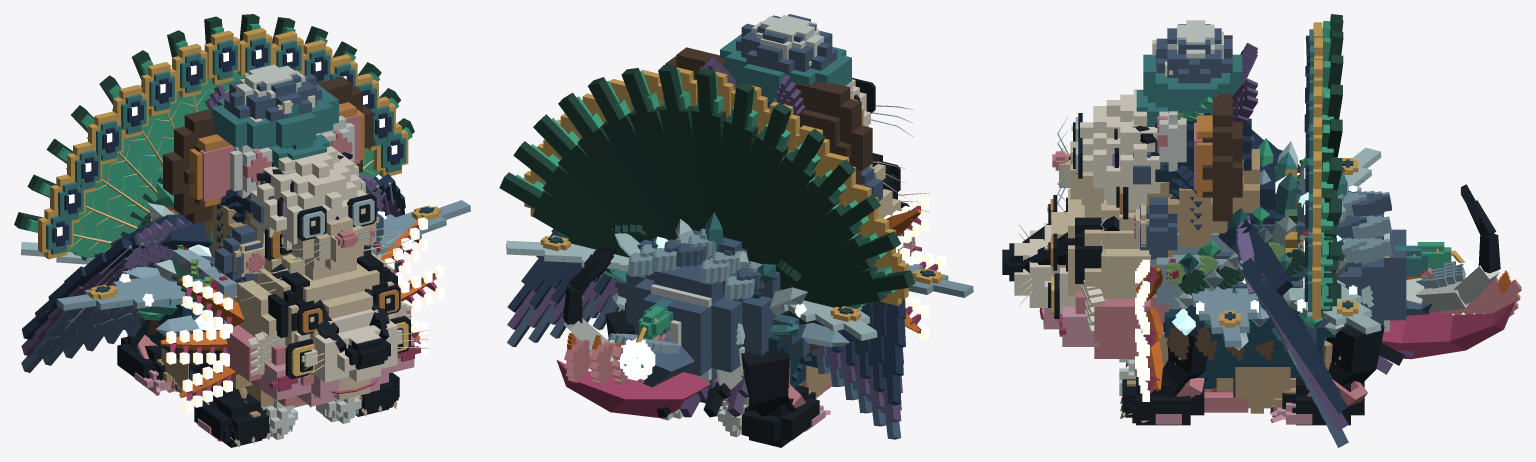
The model's file is autumn-pets.glb.
3 renders of one model, left to right at view 1: azimuth 30°, elevation 25°; view 2: azimuth 150°, elevation 25°; view 3: azimuth 270°, elevation 25°, orthographic. The views are drawn at different scales.
Visible parts, largest first — view 1: suncrest-peacock-tail-mesh, snowcap-stoat-head-mesh, bramble-badger-head-mesh, ember-axolotl-head-mesh, duskwind-raven-wing-left-mesh, clover-mouse-head-mesh, geode-hedgehog-body-mesh, dewbell-dragonfly-wing-left-mesh, bramble-badger-leg-front-left-mesh, duskwind-raven-head-mesh, dewbell-dragonfly-wing-right-mesh, bramble-badger-body-mesh (+8 smaller); view 2: suncrest-peacock-tail-mesh, bramble-badger-body-mesh, snowcap-stoat-head-mesh, duskwind-raven-wing-left-mesh, ember-axolotl-tail-mesh, duskwind-raven-wing-right-mesh, bramble-badger-leg-rear-left-mesh, clover-mouse-head-mesh, geode-hedgehog-body-mesh, dewbell-dragonfly-wing-left-mesh, ember-axolotl-head-mesh, dewbell-dragonfly-tail-mesh (+10 smaller); view 3: snowcap-stoat-head-mesh, bramble-badger-head-mesh, geode-hedgehog-body-mesh, bramble-badger-body-mesh, suncrest-peacock-tail-mesh, clover-mouse-head-mesh, ember-axolotl-head-mesh, duskwind-raven-wing-right-mesh, ember-axolotl-tail-mesh, dewbell-dragonfly-wing-right-mesh, duskwind-raven-head-mesh, bramble-badger-leg-front-right-mesh (+13 smaller).
Part boxes in pixels (x1=…): suncrest-peacock-tail-mesh: x1=14, y1=14, x2=414, y2=260; snowcap-stoat-head-mesh: x1=211, y1=64, x2=413, y2=272; bramble-badger-head-mesh: x1=215, y1=213, x2=428, y2=382; ember-axolotl-head-mesh: x1=159, y1=217, x2=444, y2=412; duskwind-raven-wing-left-mesh: x1=21, y1=214, x2=211, y2=372; clover-mouse-head-mesh: x1=163, y1=76, x2=404, y2=301; geode-hedgehog-body-mesh: x1=122, y1=182, x2=381, y2=407; dewbell-dragonfly-wing-left-mesh: x1=20, y1=242, x2=196, y2=310; bramble-badger-leg-front-left-mesh: x1=194, y1=350, x2=270, y2=447; duskwind-raven-head-mesh: x1=205, y1=68, x2=361, y2=242; dewbell-dragonfly-wing-right-mesh: x1=377, y1=200, x2=470, y2=254; bramble-badger-body-mesh: x1=136, y1=207, x2=383, y2=324; suncrest-peacock-tail-mesh: x1=499, y1=65, x2=915, y2=324; bramble-badger-body-mesh: x1=612, y1=216, x2=881, y2=388; snowcap-stoat-head-mesh: x1=720, y1=14, x2=913, y2=136; duskwind-raven-wing-left-mesh: x1=804, y1=299, x2=905, y2=439; ember-axolotl-tail-mesh: x1=556, y1=332, x2=717, y2=418; duskwind-raven-wing-right-mesh: x1=507, y1=229, x2=624, y2=346; bramble-badger-leg-rear-left-mesh: x1=741, y1=347, x2=819, y2=447; clover-mouse-head-mesh: x1=665, y1=47, x2=905, y2=197; geode-hedgehog-body-mesh: x1=603, y1=212, x2=849, y2=406; dewbell-dragonfly-wing-left-mesh: x1=780, y1=256, x2=973, y2=340; ember-axolotl-head-mesh: x1=884, y1=197, x2=945, y2=340; dewbell-dragonfly-tail-mesh: x1=618, y1=298, x2=673, y2=380; snowcap-stoat-head-mesh: x1=1052, y1=20, x2=1242, y2=215; bramble-badger-head-mesh: x1=1002, y1=189, x2=1177, y2=334; geode-hedgehog-body-mesh: x1=1134, y1=138, x2=1347, y2=397; bramble-badger-body-mesh: x1=1151, y1=159, x2=1406, y2=346; suncrest-peacock-tail-mesh: x1=1285, y1=14, x2=1343, y2=318; clover-mouse-head-mesh: x1=1100, y1=35, x2=1259, y2=264; ember-axolotl-head-mesh: x1=1039, y1=259, x2=1168, y2=401; duskwind-raven-wing-right-mesh: x1=1218, y1=215, x2=1348, y2=447; ember-axolotl-tail-mesh: x1=1381, y1=268, x2=1521, y2=359; dewbell-dragonfly-wing-right-mesh: x1=1191, y1=278, x2=1381, y2=347; duskwind-raven-head-mesh: x1=1068, y1=43, x2=1257, y2=230; bramble-badger-leg-front-right-mesh: x1=1120, y1=322, x2=1209, y2=425.
Bounding box in the file's own units: 1.14 × 0.9085 × 1.22.
